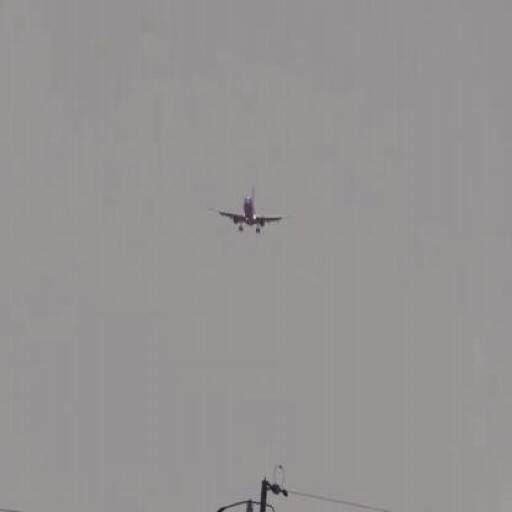aircraft: (208, 191, 290, 234)
